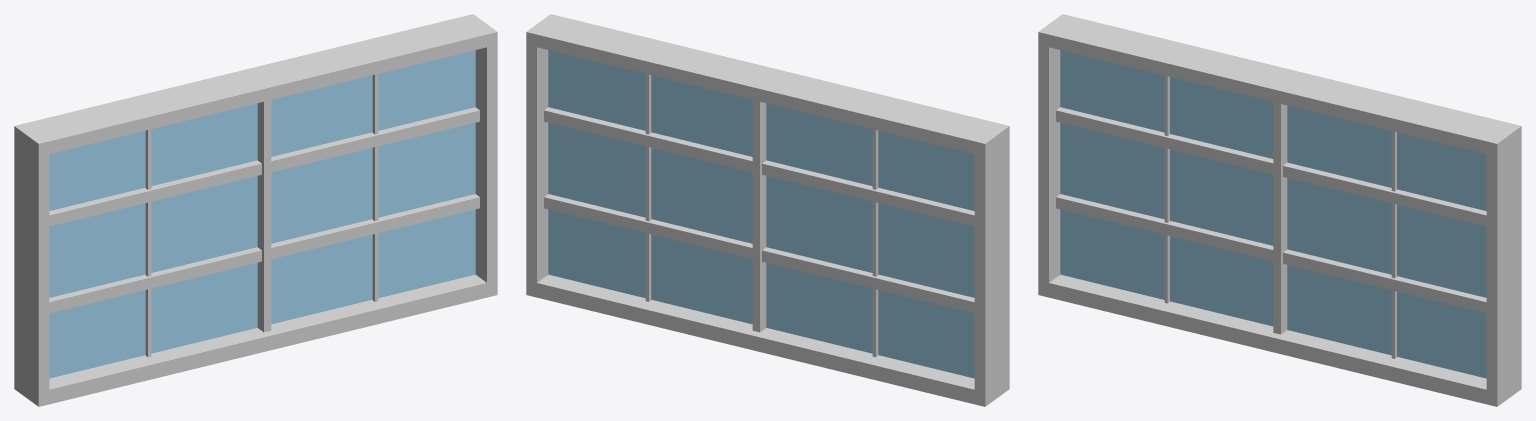
The model's file is window_018.glb.
3 views of the same model, side by side, from view 1: azimuth 30°, elevation 25°; view 2: azimuth 150°, elevation 25°; view 3: azimuth 330°, elevation 25° (orthographic).
Parts seen in each view (by area): view 1: window_018; view 2: window_018; view 3: window_018.
Part boxes in pixels (box(x1,y1,x2,y2)): window_018: box(14, 14, 497, 406); window_018: box(526, 14, 1009, 406); window_018: box(1038, 14, 1521, 406).
Bounding box in the file's own units: 3.05 × 1.67 × 0.2828.
Materials: 1 (1 with a texture image).
